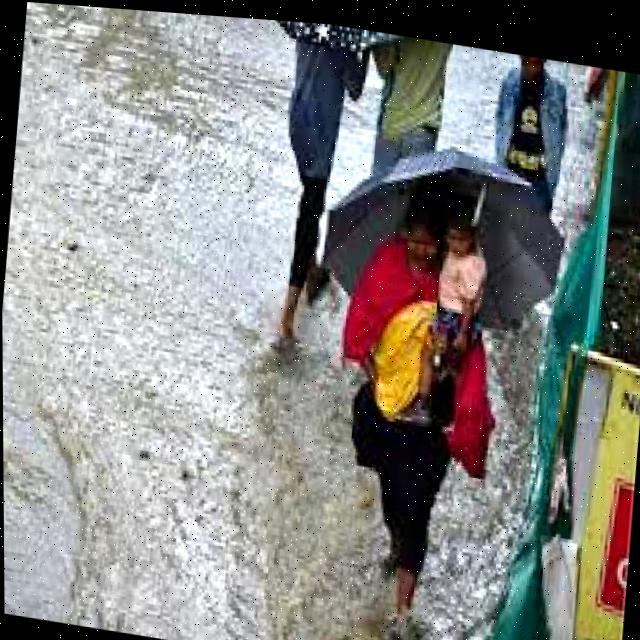civilian: (327, 192, 498, 628), (248, 18, 365, 363), (490, 51, 585, 236), (363, 30, 451, 193), (420, 207, 492, 403)
